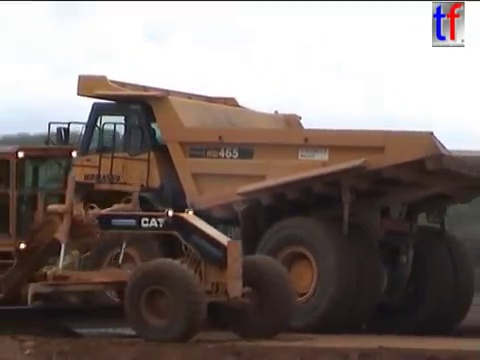motor grader: (1, 138, 297, 346)
truck: (40, 70, 480, 338)
